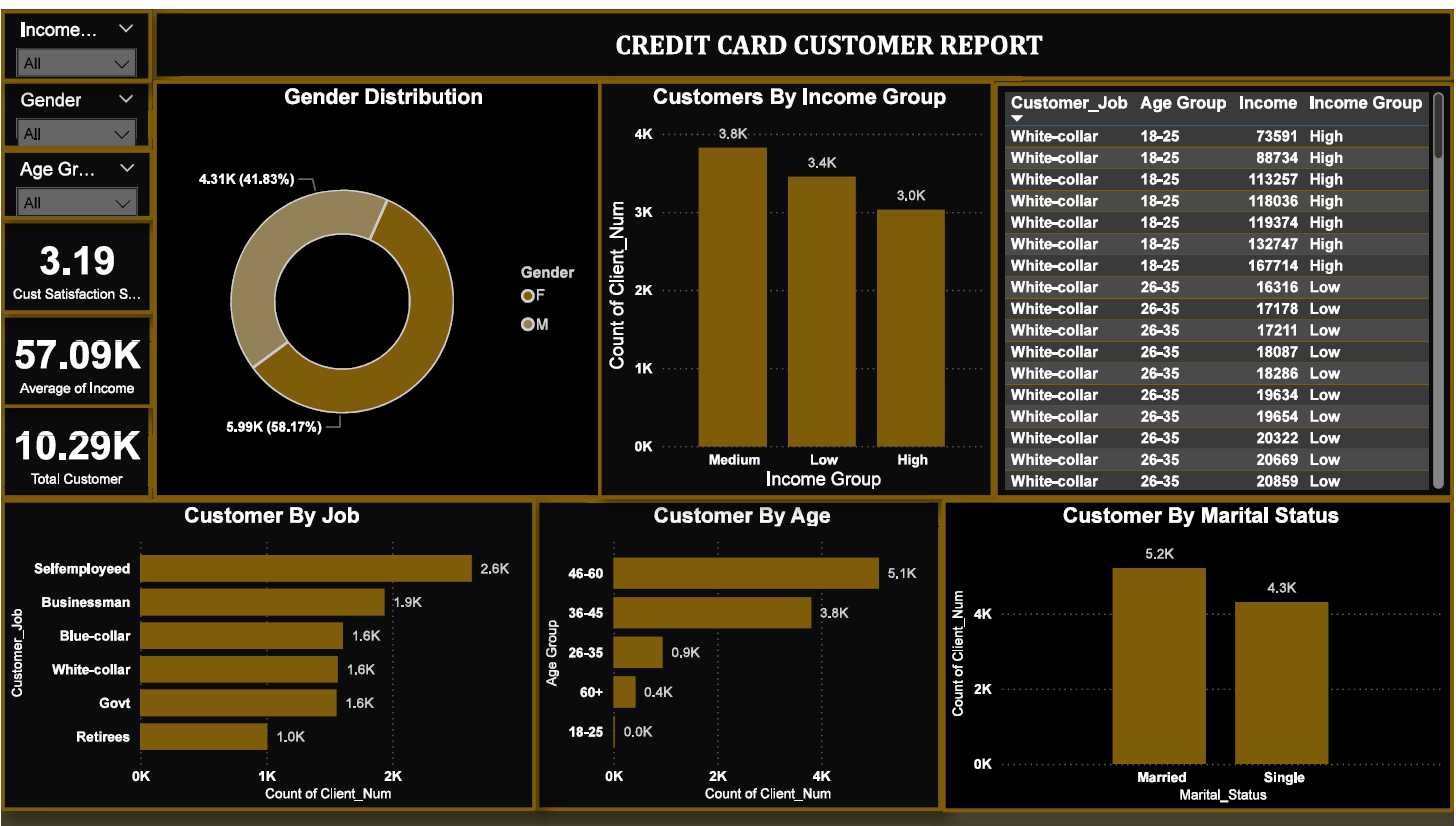

This screenshot's page, from the dashboard's own definition file:
{"tool":"powerbi","page":{"name":"customer report","canvas":[1280,720],"ordinal":0},"visuals":[{"type":"textbox","box":[134.3,0,1145.9,61.9],"z":0},{"type":"card","fields":{"Values":["CountNonNull(customer.Client_Num)"]},"box":[0,348.2,132.6,82.9],"z":1000},{"type":"card","fields":{"Values":["Avg(customer.Income)"]},"box":[0,267.7,133.8,82.9],"z":2000},{"type":"card","fields":{"Values":["Avg(customer.Cust_Satisfaction_Score)"]},"box":[0,184.8,133.8,82.9],"z":3000},{"type":"slicer","fields":{"Values":["customer.Gender"]},"box":[0,61.6,132.6,61.6],"z":4000},{"type":"slicer","fields":{"Values":["customer.Age Group"]},"box":[0,123.2,133.8,61.6],"z":5000},{"type":"slicer","fields":{"Values":["customer.Income Group"]},"box":[0,0,132.6,64],"z":6000},{"type":"donutChart","title":"Gender Distribution","fields":{"Category":["customer.Gender"],"Y":["CountNonNull(customer.Client_Num)"]},"box":[133.8,61.6,400.3,369.5],"z":7000},{"type":"clusteredBarChart","title":"Customer By Age","fields":{"Category":["customer.Age Group"],"Y":["CountNonNull(customer.Client_Num)"]},"box":[471.4,431.1,357.7,274.8],"z":8000},{"type":"clusteredColumnChart","title":"Customers By Income Group","fields":{"Category":["customer.Income Group"],"Y":["CountNonNull(customer.Client_Num)"]},"box":[525.8,61.6,349.4,369.5],"z":9000},{"type":"clusteredBarChart","title":"Customer By Job","fields":{"Category":["customer.Customer_Job"],"Y":["CountNonNull(customer.Client_Num)"]},"box":[0,431.1,471.4,274.8],"z":10000},{"type":"columnChart","title":"Customer By Marital Status","fields":{"Category":["customer.Marital_Status"],"Y":["CountNonNull(CreditCard.Client_Num)"]},"box":[829,431.1,451.2,275.9],"z":12000},{"type":"tableEx","fields":{"Values":["customer.Customer_Job","customer.Age Group","customer.Income","customer.Income Group"]},"box":[875.2,64,405,367.3],"z":13000}]}

Visuals, with their boxes in screenshot pixels (x1, y1, x2, y2), scaled from the page's 1280x720 canvas onto the 1456x826 screenshot:
textbox: 153,0,1455,71
card - CountNonNull(customer.Client_Num): 0,399,151,495
card - Avg(customer.Income): 0,307,152,402
card - Avg(customer.Cust_Satisfaction_Score): 0,212,152,307
slicer - customer.Gender: 0,71,151,141
slicer - customer.Age Group: 0,141,152,212
slicer - customer.Income Group: 0,0,151,73
"Gender Distribution" donutChart: 152,71,608,495
"Customer By Age" clusteredBarChart: 536,495,943,810
"Customers By Income Group" clusteredColumnChart: 598,71,996,495
"Customer By Job" clusteredBarChart: 0,495,536,810
"Customer By Marital Status" columnChart: 943,495,1455,811
tableEx - customer.Customer_Job x customer.Age Group: 996,73,1455,495
